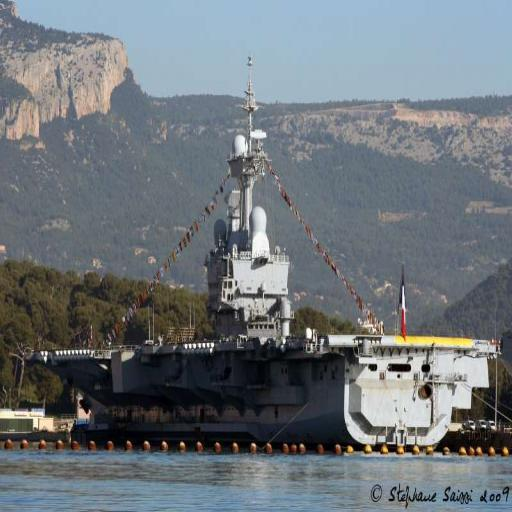Portanaves: (26, 43, 503, 457)
